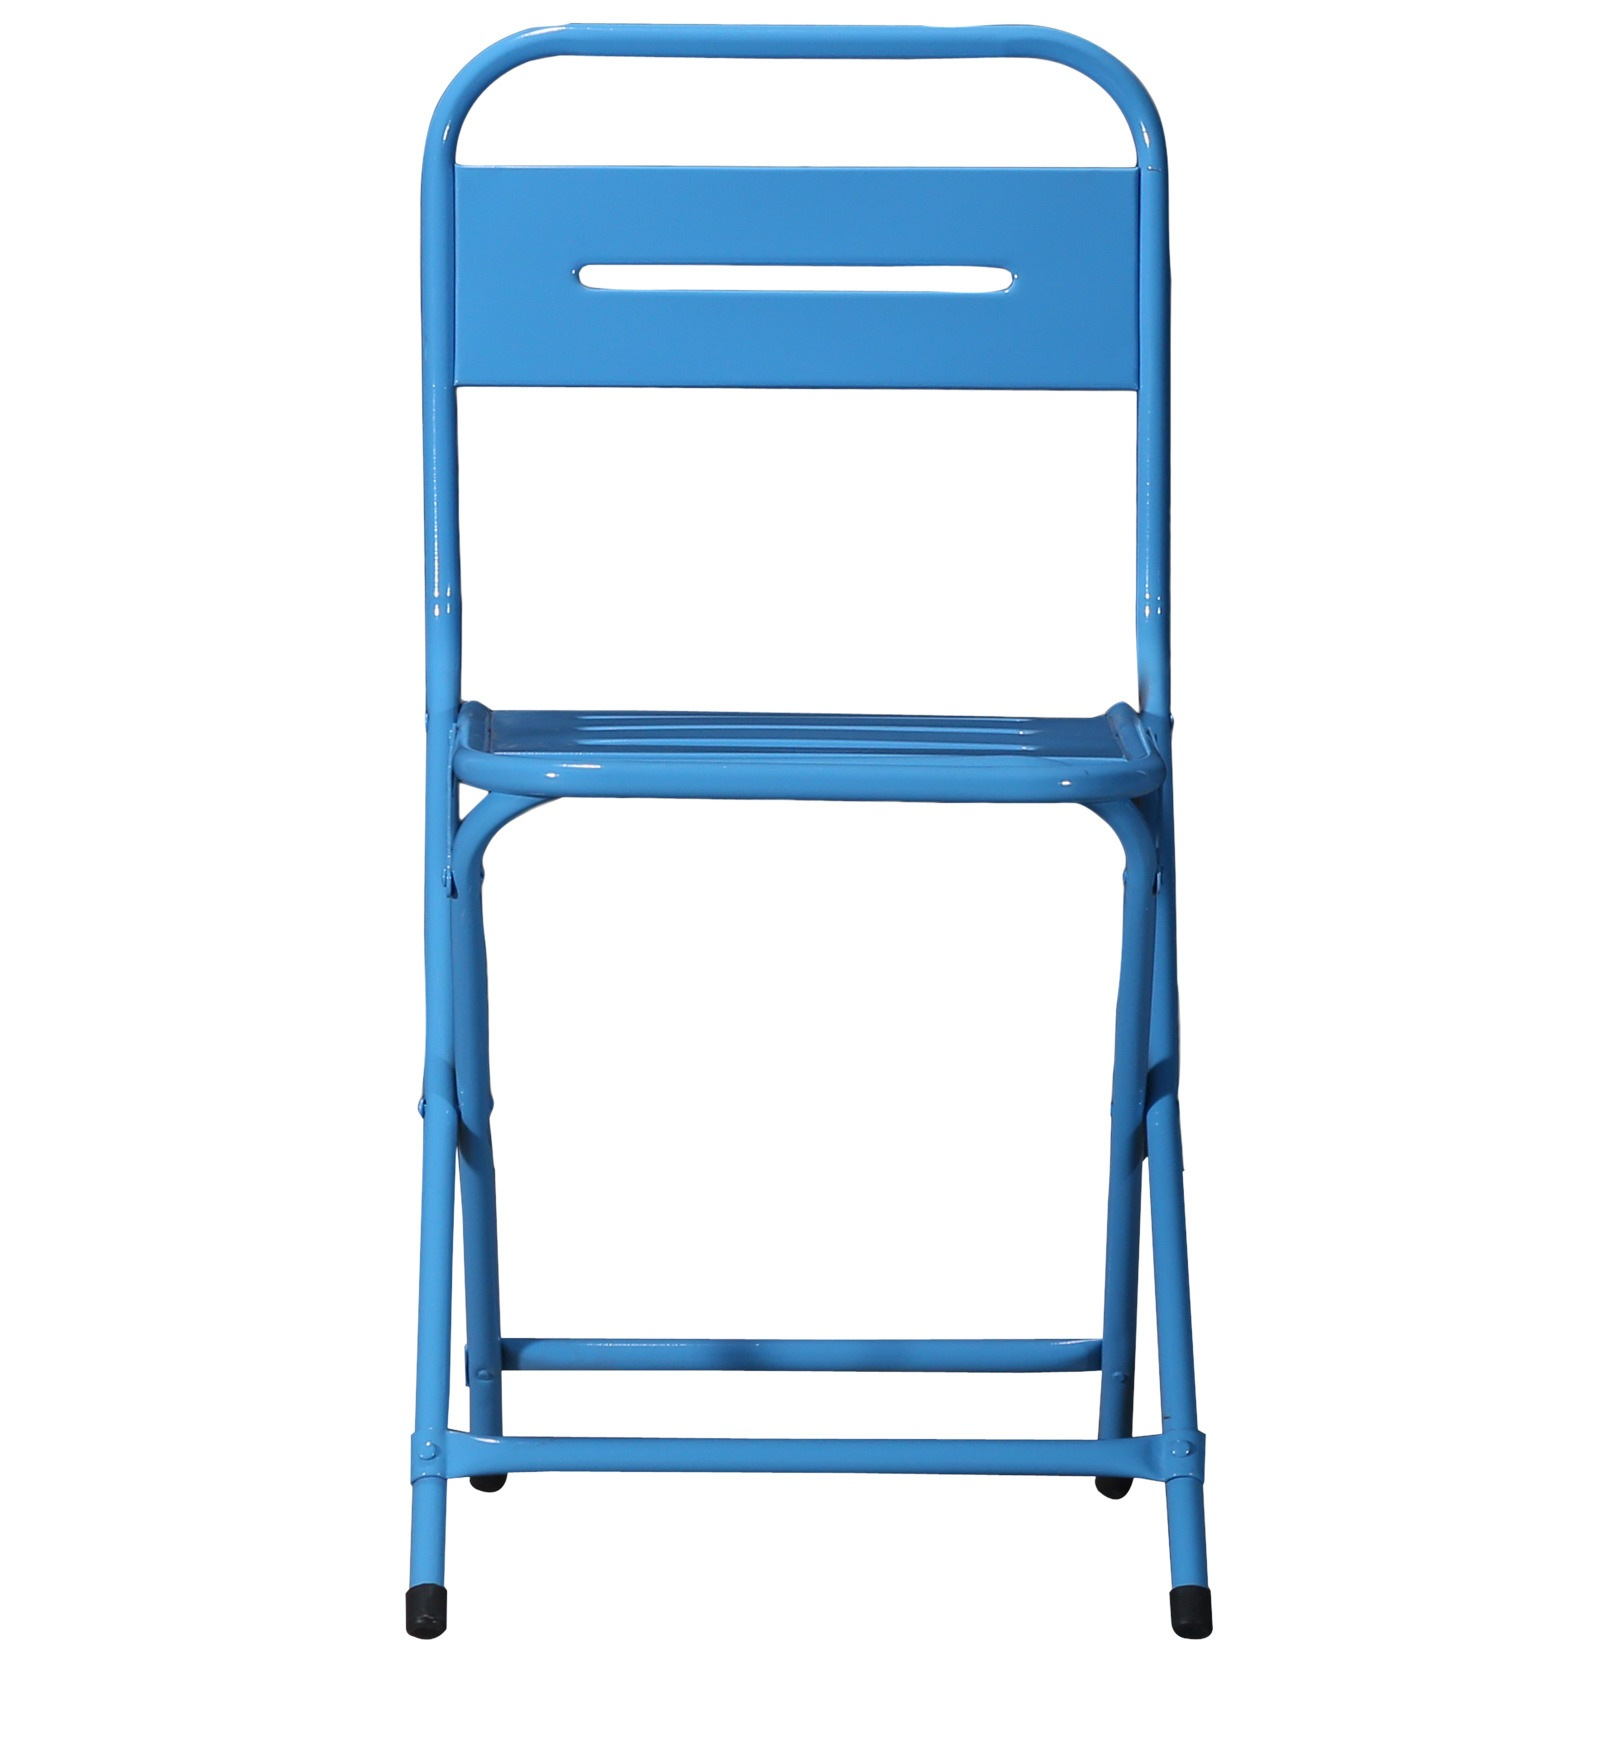Marandoo Grunge Blue Outdoor Folding Chair by Bohemiana: (403, 18, 1229, 1648)
